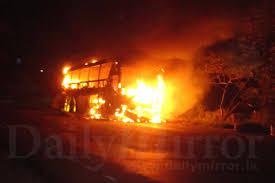fire: (58, 59, 173, 124)
